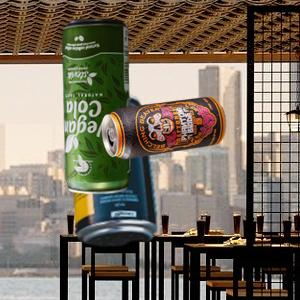can: (100, 97, 227, 159)
